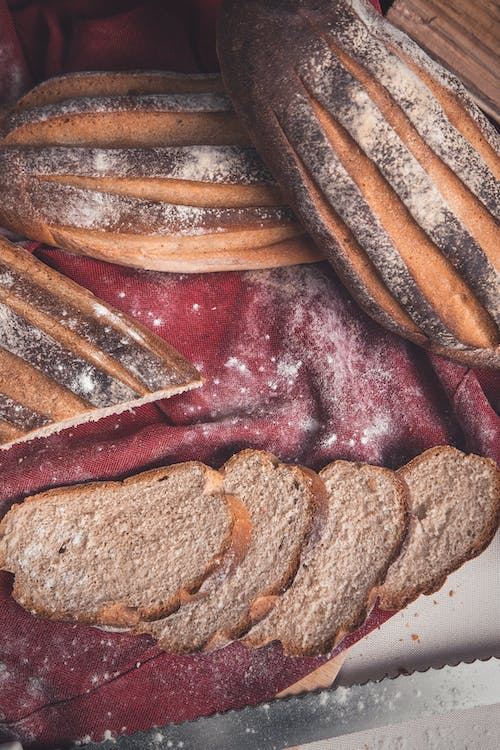knife: (0, 654, 500, 750)
